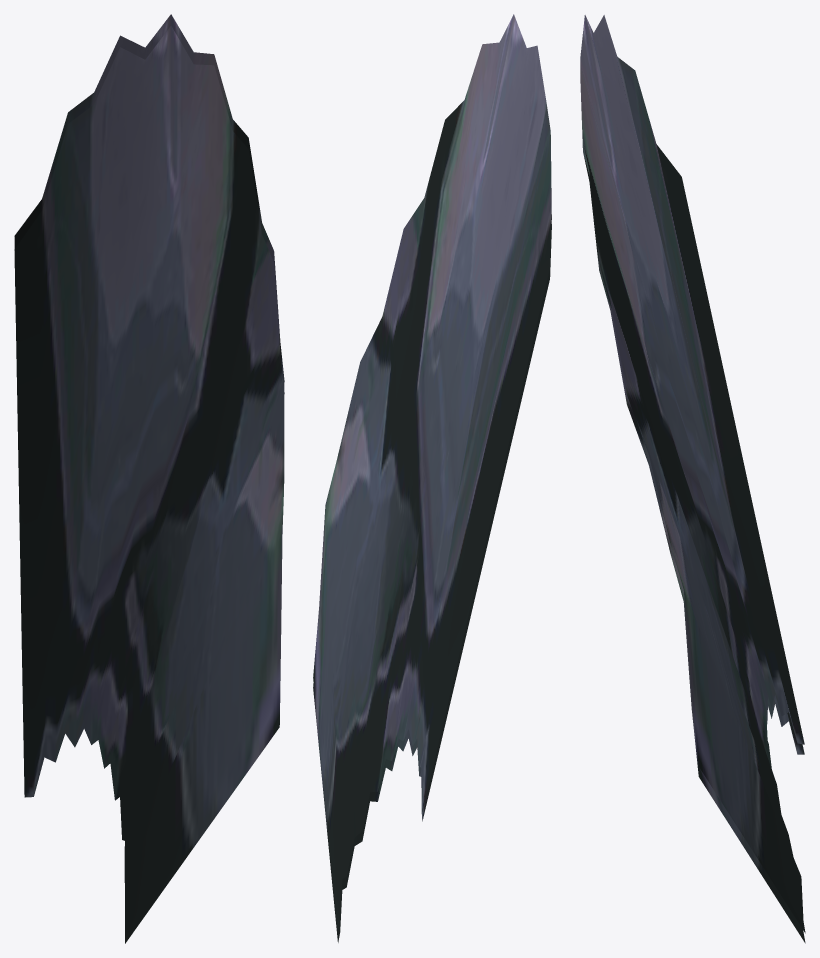
File: Weapon2.FBX
3 views of the same model, side by side, from view 1: azimuth 30°, elevation 25°; view 2: azimuth 150°, elevation 25°; view 3: azimuth 270°, elevation 25° (orthographic). The views are drawn at different scales.
Visible parts, largest first — view 1: Mesh_0040; view 2: Mesh_0040; view 3: Mesh_0040.
Boxes of the visible parts, box(x1,y1,x2,y2) form: Mesh_0040: box(14, 14, 284, 943); Mesh_0040: box(313, 14, 551, 942); Mesh_0040: box(580, 15, 805, 943).
Size of the model in its own units: 9.3 by 33.72 by 7.69.
